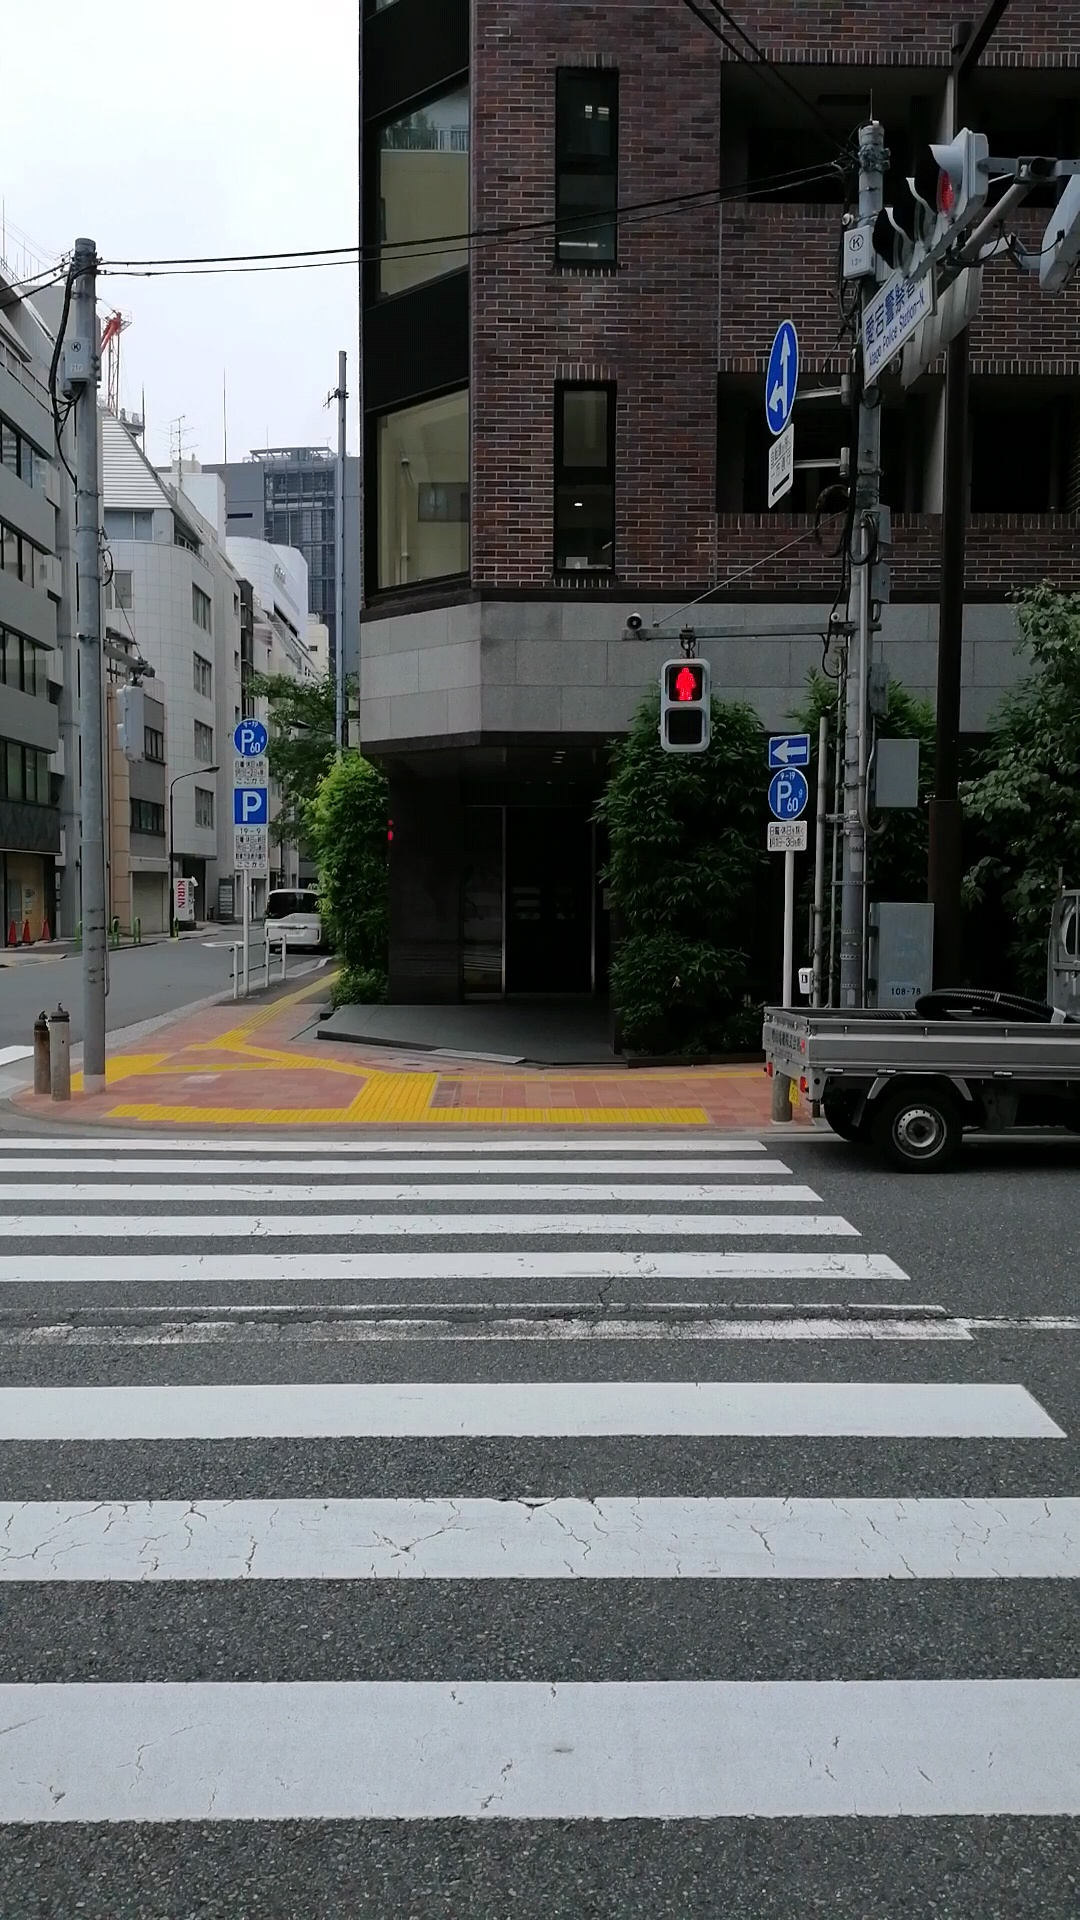red: (659, 658, 709, 756)
